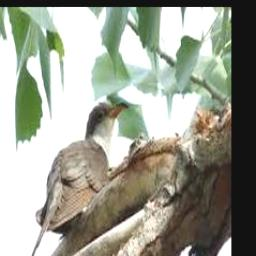Cuckoo: (29, 101, 129, 256)
